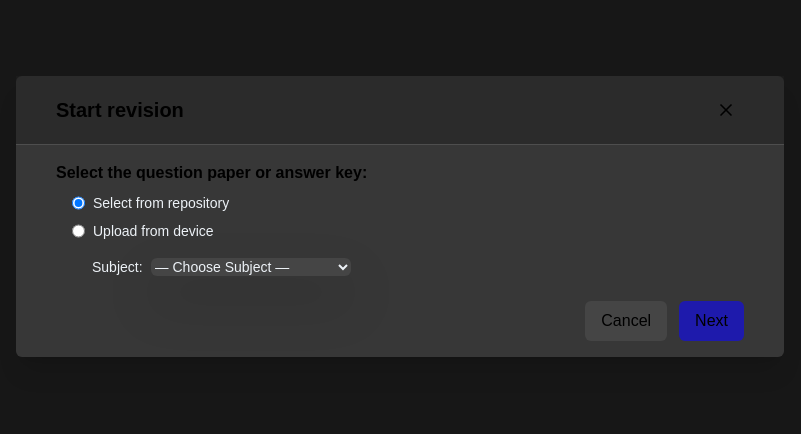
Test: switches to device upload when 'Upload from device' is clicked
The image size is (801, 434).
Click the radio button labelled "Upload from device". click: [78, 230]
box: x1=72 y1=220 x2=85 y2=240
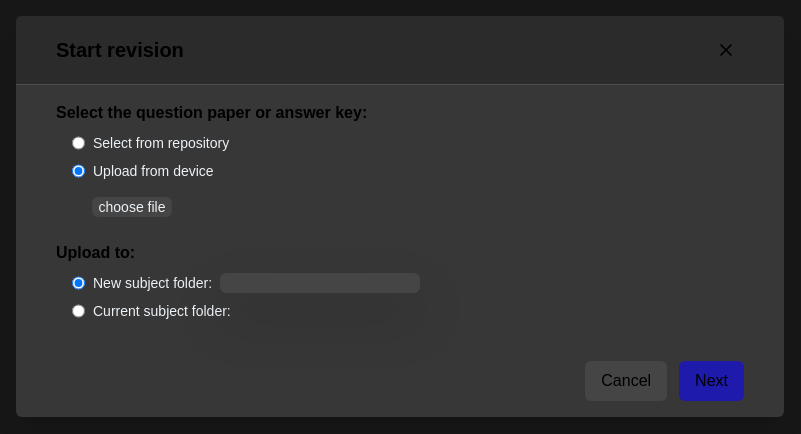
Expected: the button "choose file" is shown, x1=92 y1=196 x2=172 y2=216
